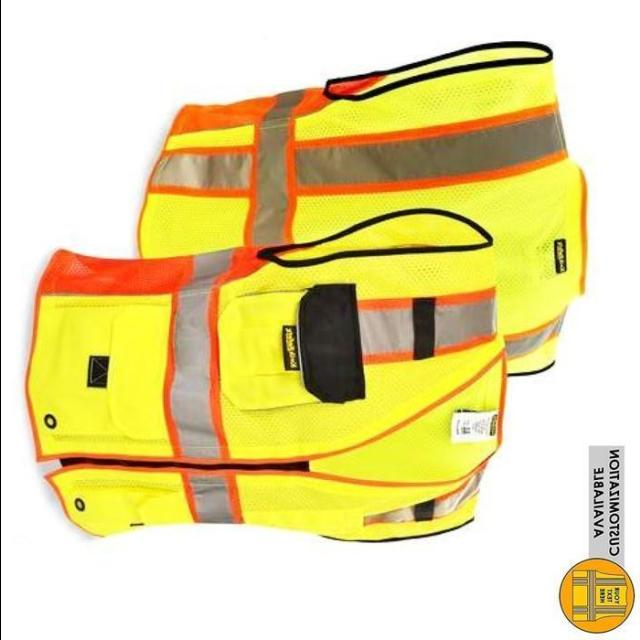jacket: (31, 198, 514, 576)
